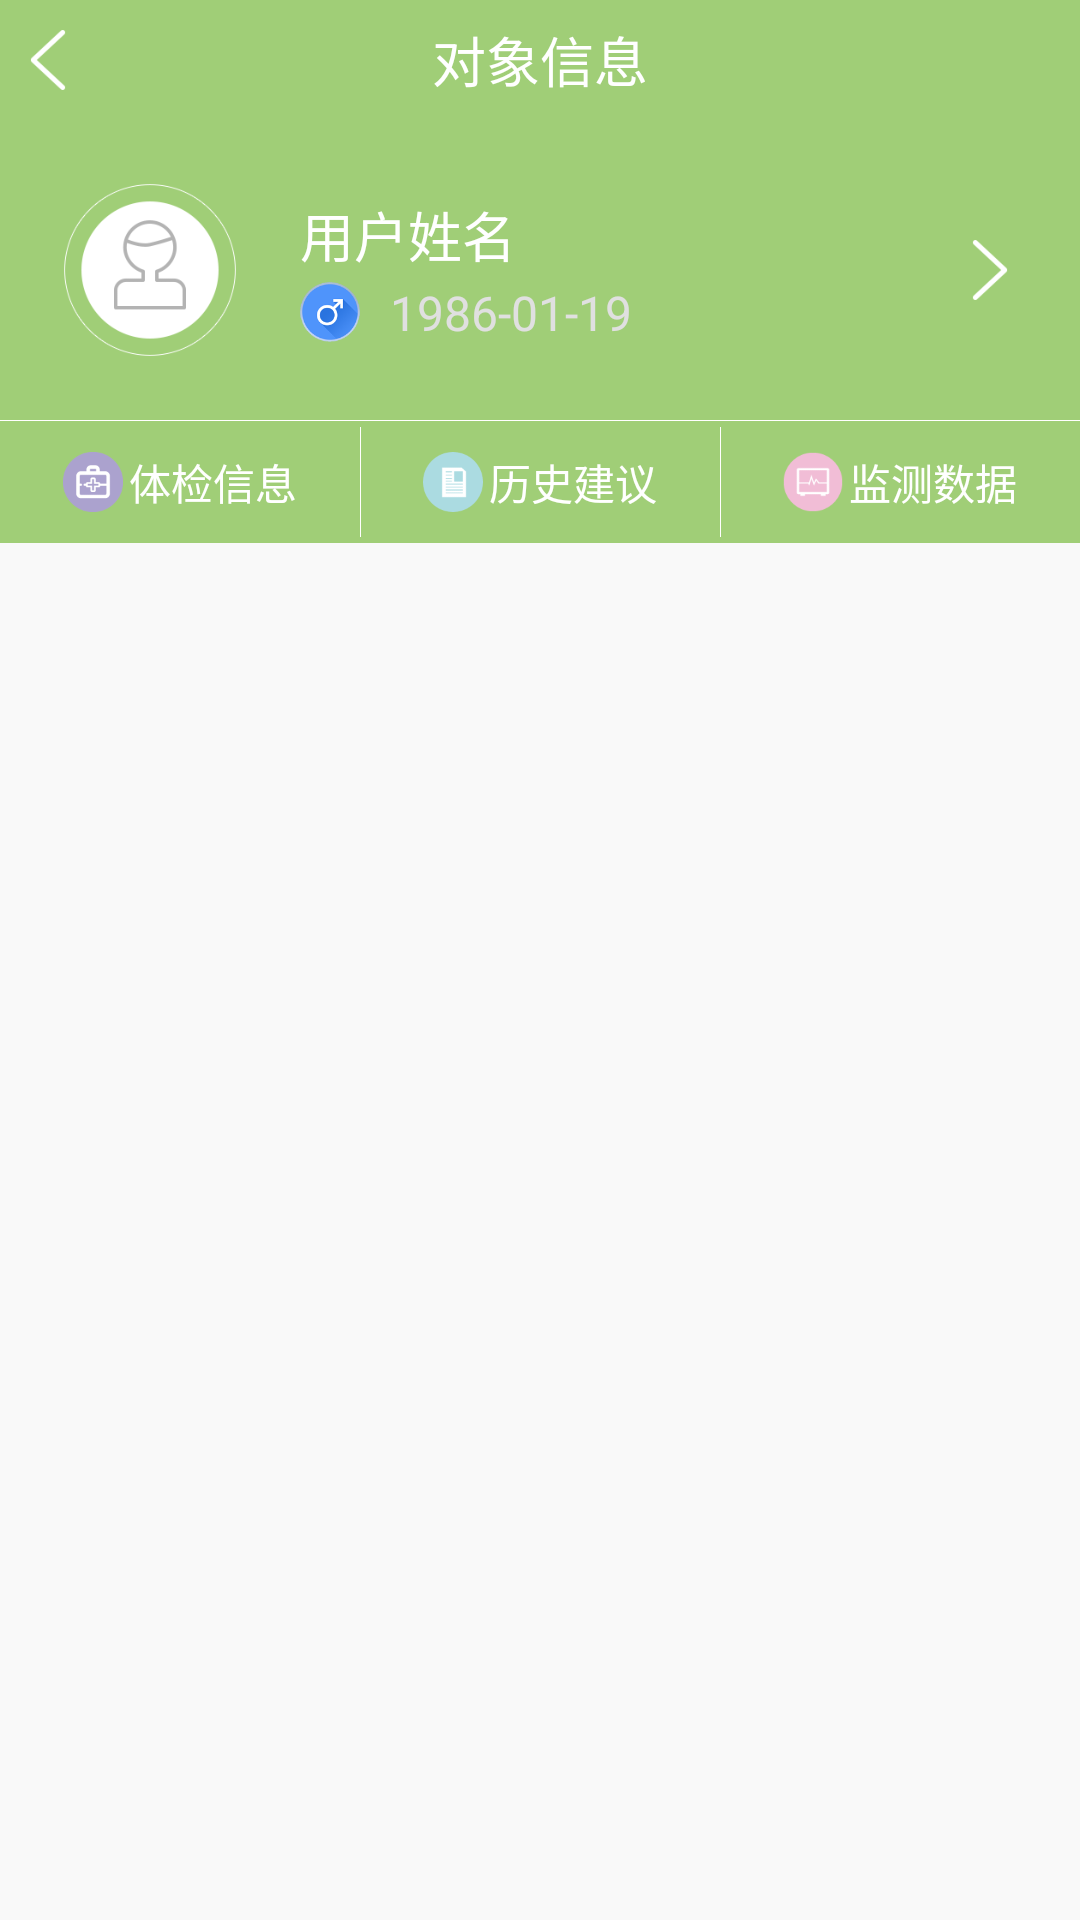

Point at icon controls on the screen. Image size 1080w x 1920h, points as (x=x, y=y).
arrow left: (x=48, y=60)
arrow right: (x=990, y=270)
gender male: (x=330, y=312)
user photo: (x=150, y=270)
